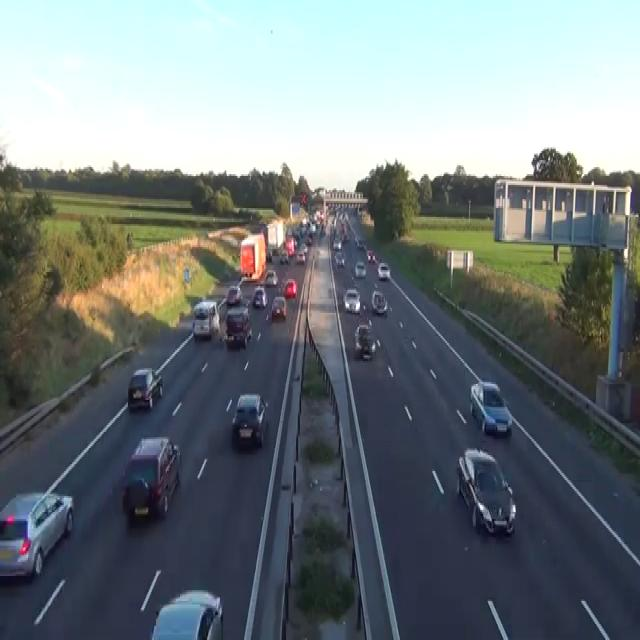Car: (0, 490, 74, 580), (456, 446, 516, 535), (122, 435, 181, 521), (150, 588, 223, 638), (469, 380, 512, 438), (231, 393, 267, 448), (127, 366, 163, 409), (224, 307, 252, 348), (192, 300, 219, 340), (354, 322, 375, 359), (193, 300, 217, 318), (343, 288, 360, 313), (252, 284, 268, 308), (371, 290, 387, 314), (271, 295, 286, 320), (361, 336, 376, 359), (226, 284, 242, 304), (282, 277, 297, 297), (216, 297, 227, 323), (210, 304, 220, 332), (354, 324, 370, 339), (377, 261, 390, 279), (264, 268, 278, 284), (284, 236, 295, 256), (354, 260, 366, 278), (334, 252, 345, 268), (366, 249, 377, 263), (279, 249, 289, 263), (332, 238, 341, 251), (277, 279, 284, 295), (296, 251, 305, 263), (309, 222, 316, 235), (266, 247, 272, 261), (300, 192, 307, 204), (299, 242, 307, 252), (357, 238, 364, 249), (356, 206, 362, 217), (342, 234, 349, 243), (306, 235, 312, 245), (354, 235, 359, 245)
Truck: (239, 233, 266, 279), (266, 218, 284, 252)
